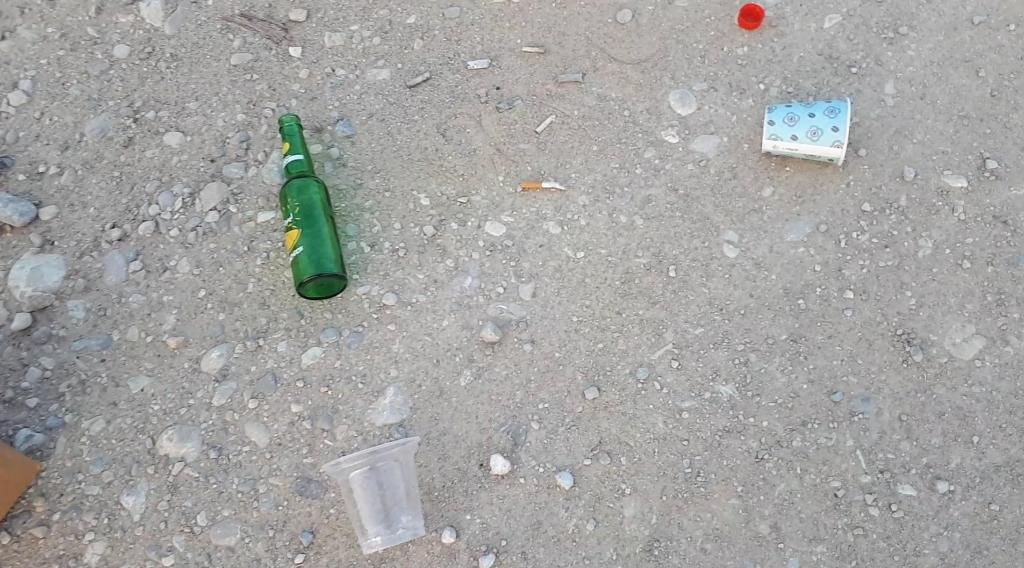garbage: (249, 106, 379, 320), (313, 433, 454, 564), (278, 113, 348, 300), (756, 93, 860, 180)
